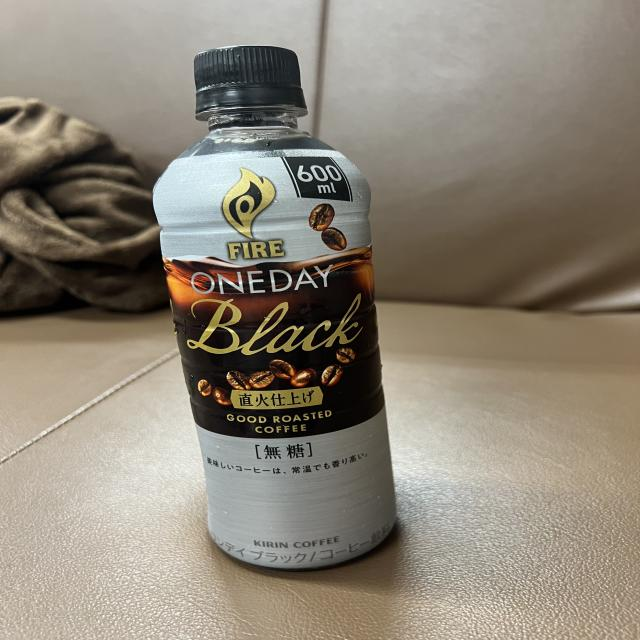coffee-black: (143, 41, 383, 576)
